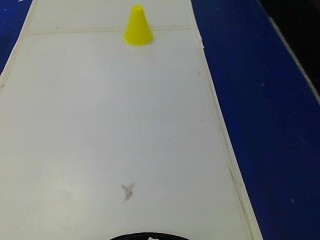cone: (119, 3, 157, 44)
